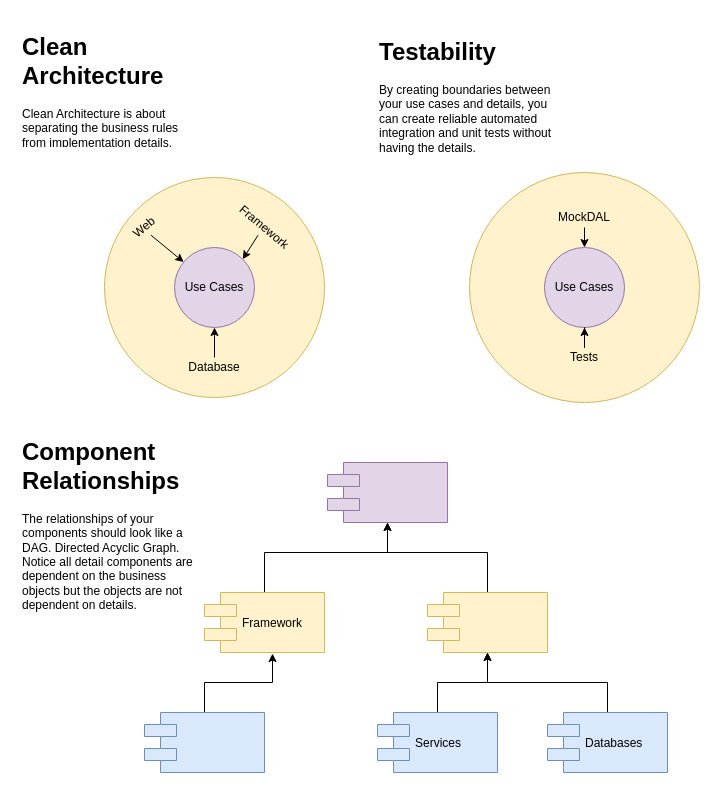
Some shapes in this 717 by 790 pixel diagram are drawn without their labels. The shapes that lost their labels are listed below. From the top down, each one's box as (x1, y1, x2, y2) in pixels, then its label:
(326, 462, 448, 522): Business Objects
(426, 592, 548, 652): Gateway
(144, 712, 264, 772): Web Views
